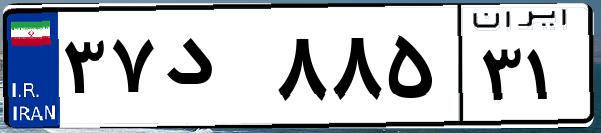1: (525, 38, 570, 115)
3: (57, 26, 110, 100), (475, 38, 525, 113)
5: (385, 28, 445, 110)
7: (110, 28, 158, 98)
8: (270, 28, 330, 110), (330, 28, 385, 110)
د: (158, 20, 270, 120)
